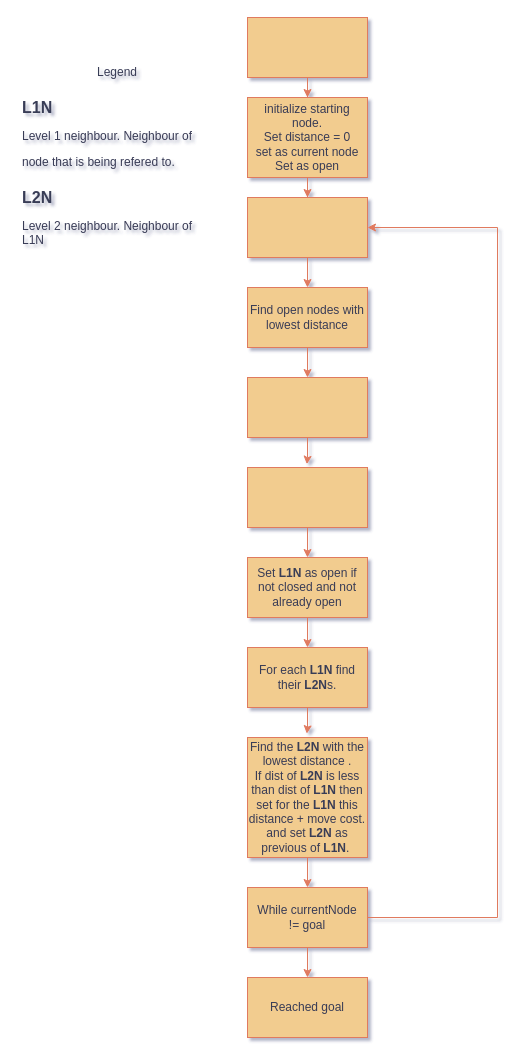
Image size: 529x1061. Some labels were removed from this diagram. The shapes that lost their labels are listed below. From the top down, each one's centre as x and y in pixels, then its label:
At point 307,47: "Initialize all nodes with infinite distance and set as univisted".
At point 307,227: "Do".
At point 307,407: "Set open nodes with lowest distance as interested nodes".
At point 307,497: "Set interested nodes as closed. For each interested node find it's L1N s.".
